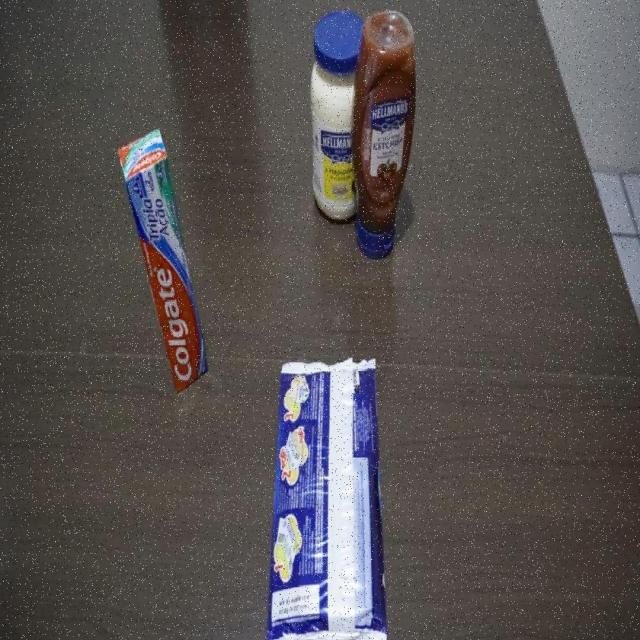Ketchup: (352, 10, 416, 263)
Mayonnaise: (310, 10, 363, 227)
Popcorn: (267, 357, 388, 640)
Toothpaste: (118, 127, 209, 394)
